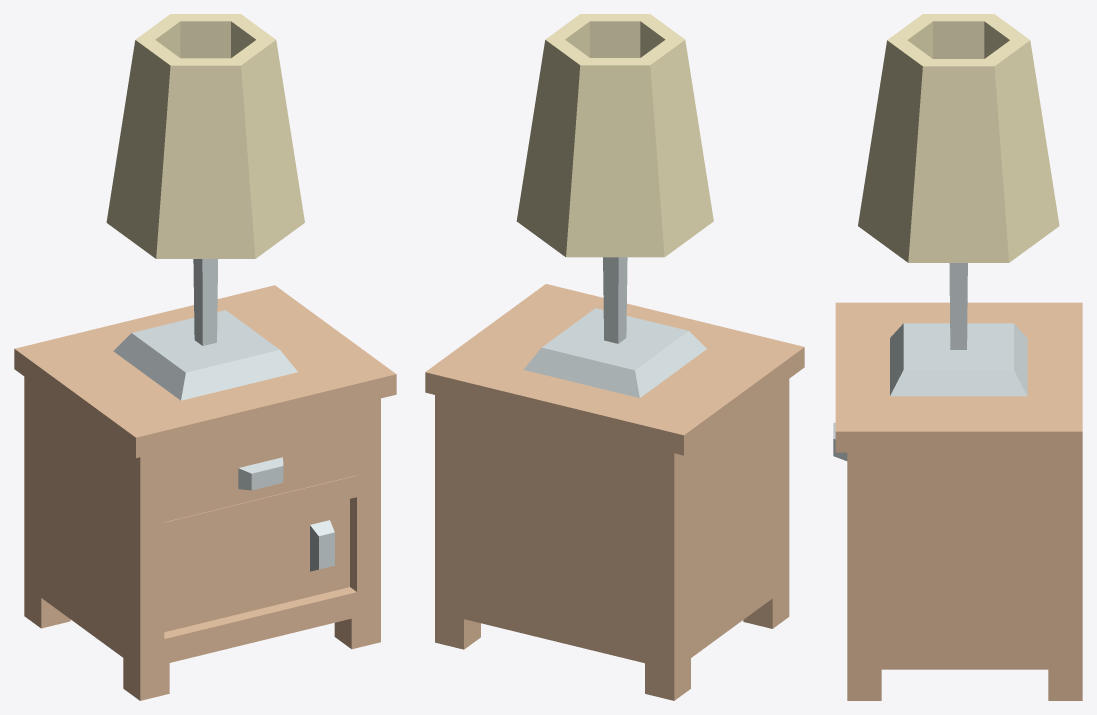
File: nightstandLamp.glb
The picture shows the model from 3 angles, left to right: view 1: azimuth 30°, elevation 25°; view 2: azimuth 150°, elevation 25°; view 3: azimuth 270°, elevation 25°; orthographic projection. The views are drawn at different scales.
Parts seen in each view (by area): view 1: cabinetBedDrawer(Clone), lampRoundTable(Clone), door; view 2: cabinetBedDrawer(Clone), lampRoundTable(Clone), door; view 3: cabinetBedDrawer(Clone), lampRoundTable(Clone), door.
Part boxes in pixels (x1,y1,x2,y2): cabinetBedDrawer(Clone): [14, 285, 396, 700]; lampRoundTable(Clone): [106, 14, 304, 258]; door: [113, 259, 334, 571]; cabinetBedDrawer(Clone): [425, 284, 804, 700]; lampRoundTable(Clone): [516, 14, 713, 257]; door: [523, 257, 706, 397]; cabinetBedDrawer(Clone): [835, 302, 1082, 700]; lampRoundTable(Clone): [858, 14, 1059, 262]; door: [833, 263, 1027, 460].
Bounding box in the file's own units: 0.266 × 0.5773 × 0.2173.
